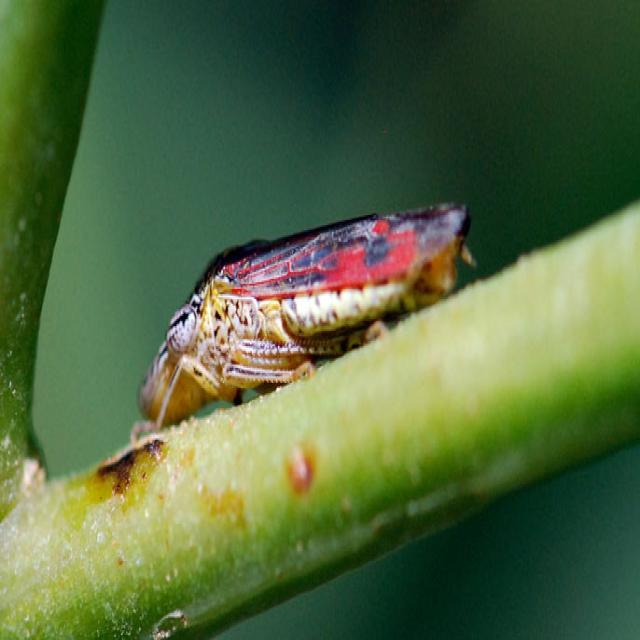Yechan: (134, 182, 476, 417)
